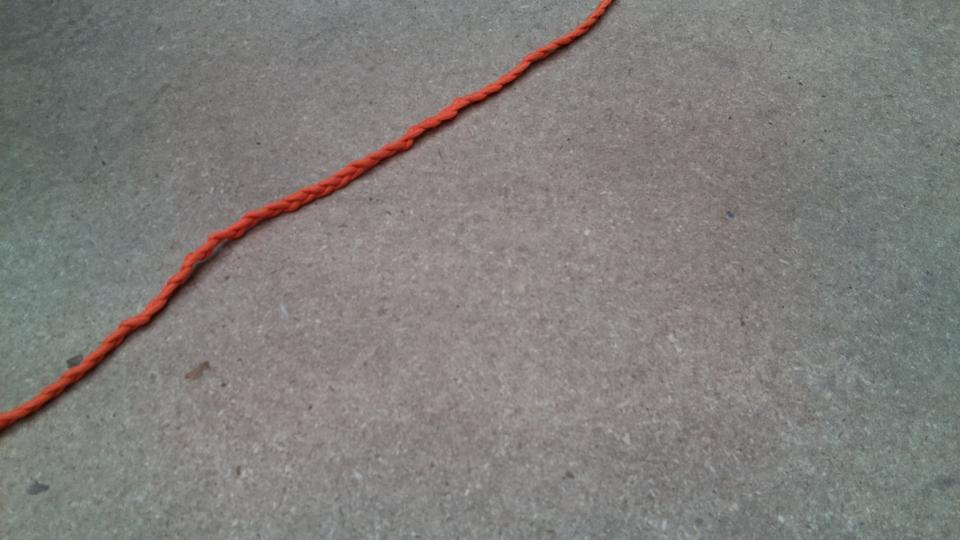rope: (1, 1, 600, 416)
